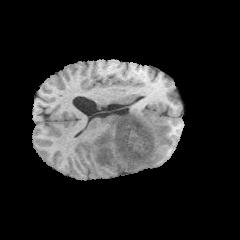glioma: (86, 111, 172, 170)
